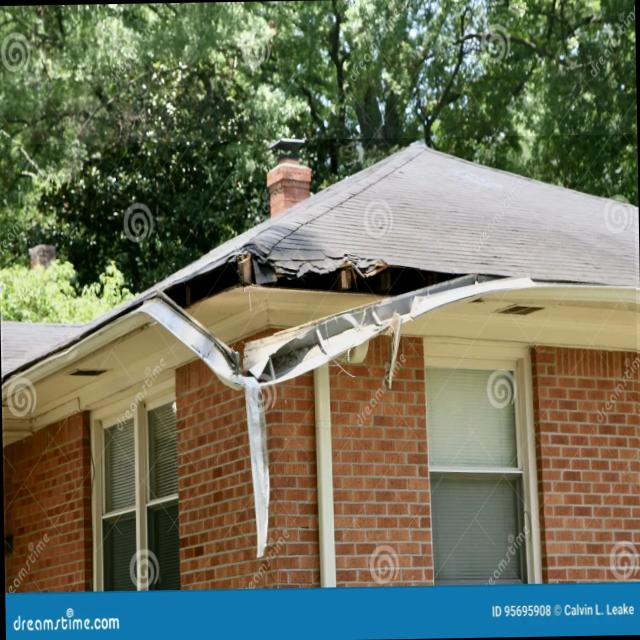House: (0, 134, 640, 595)
